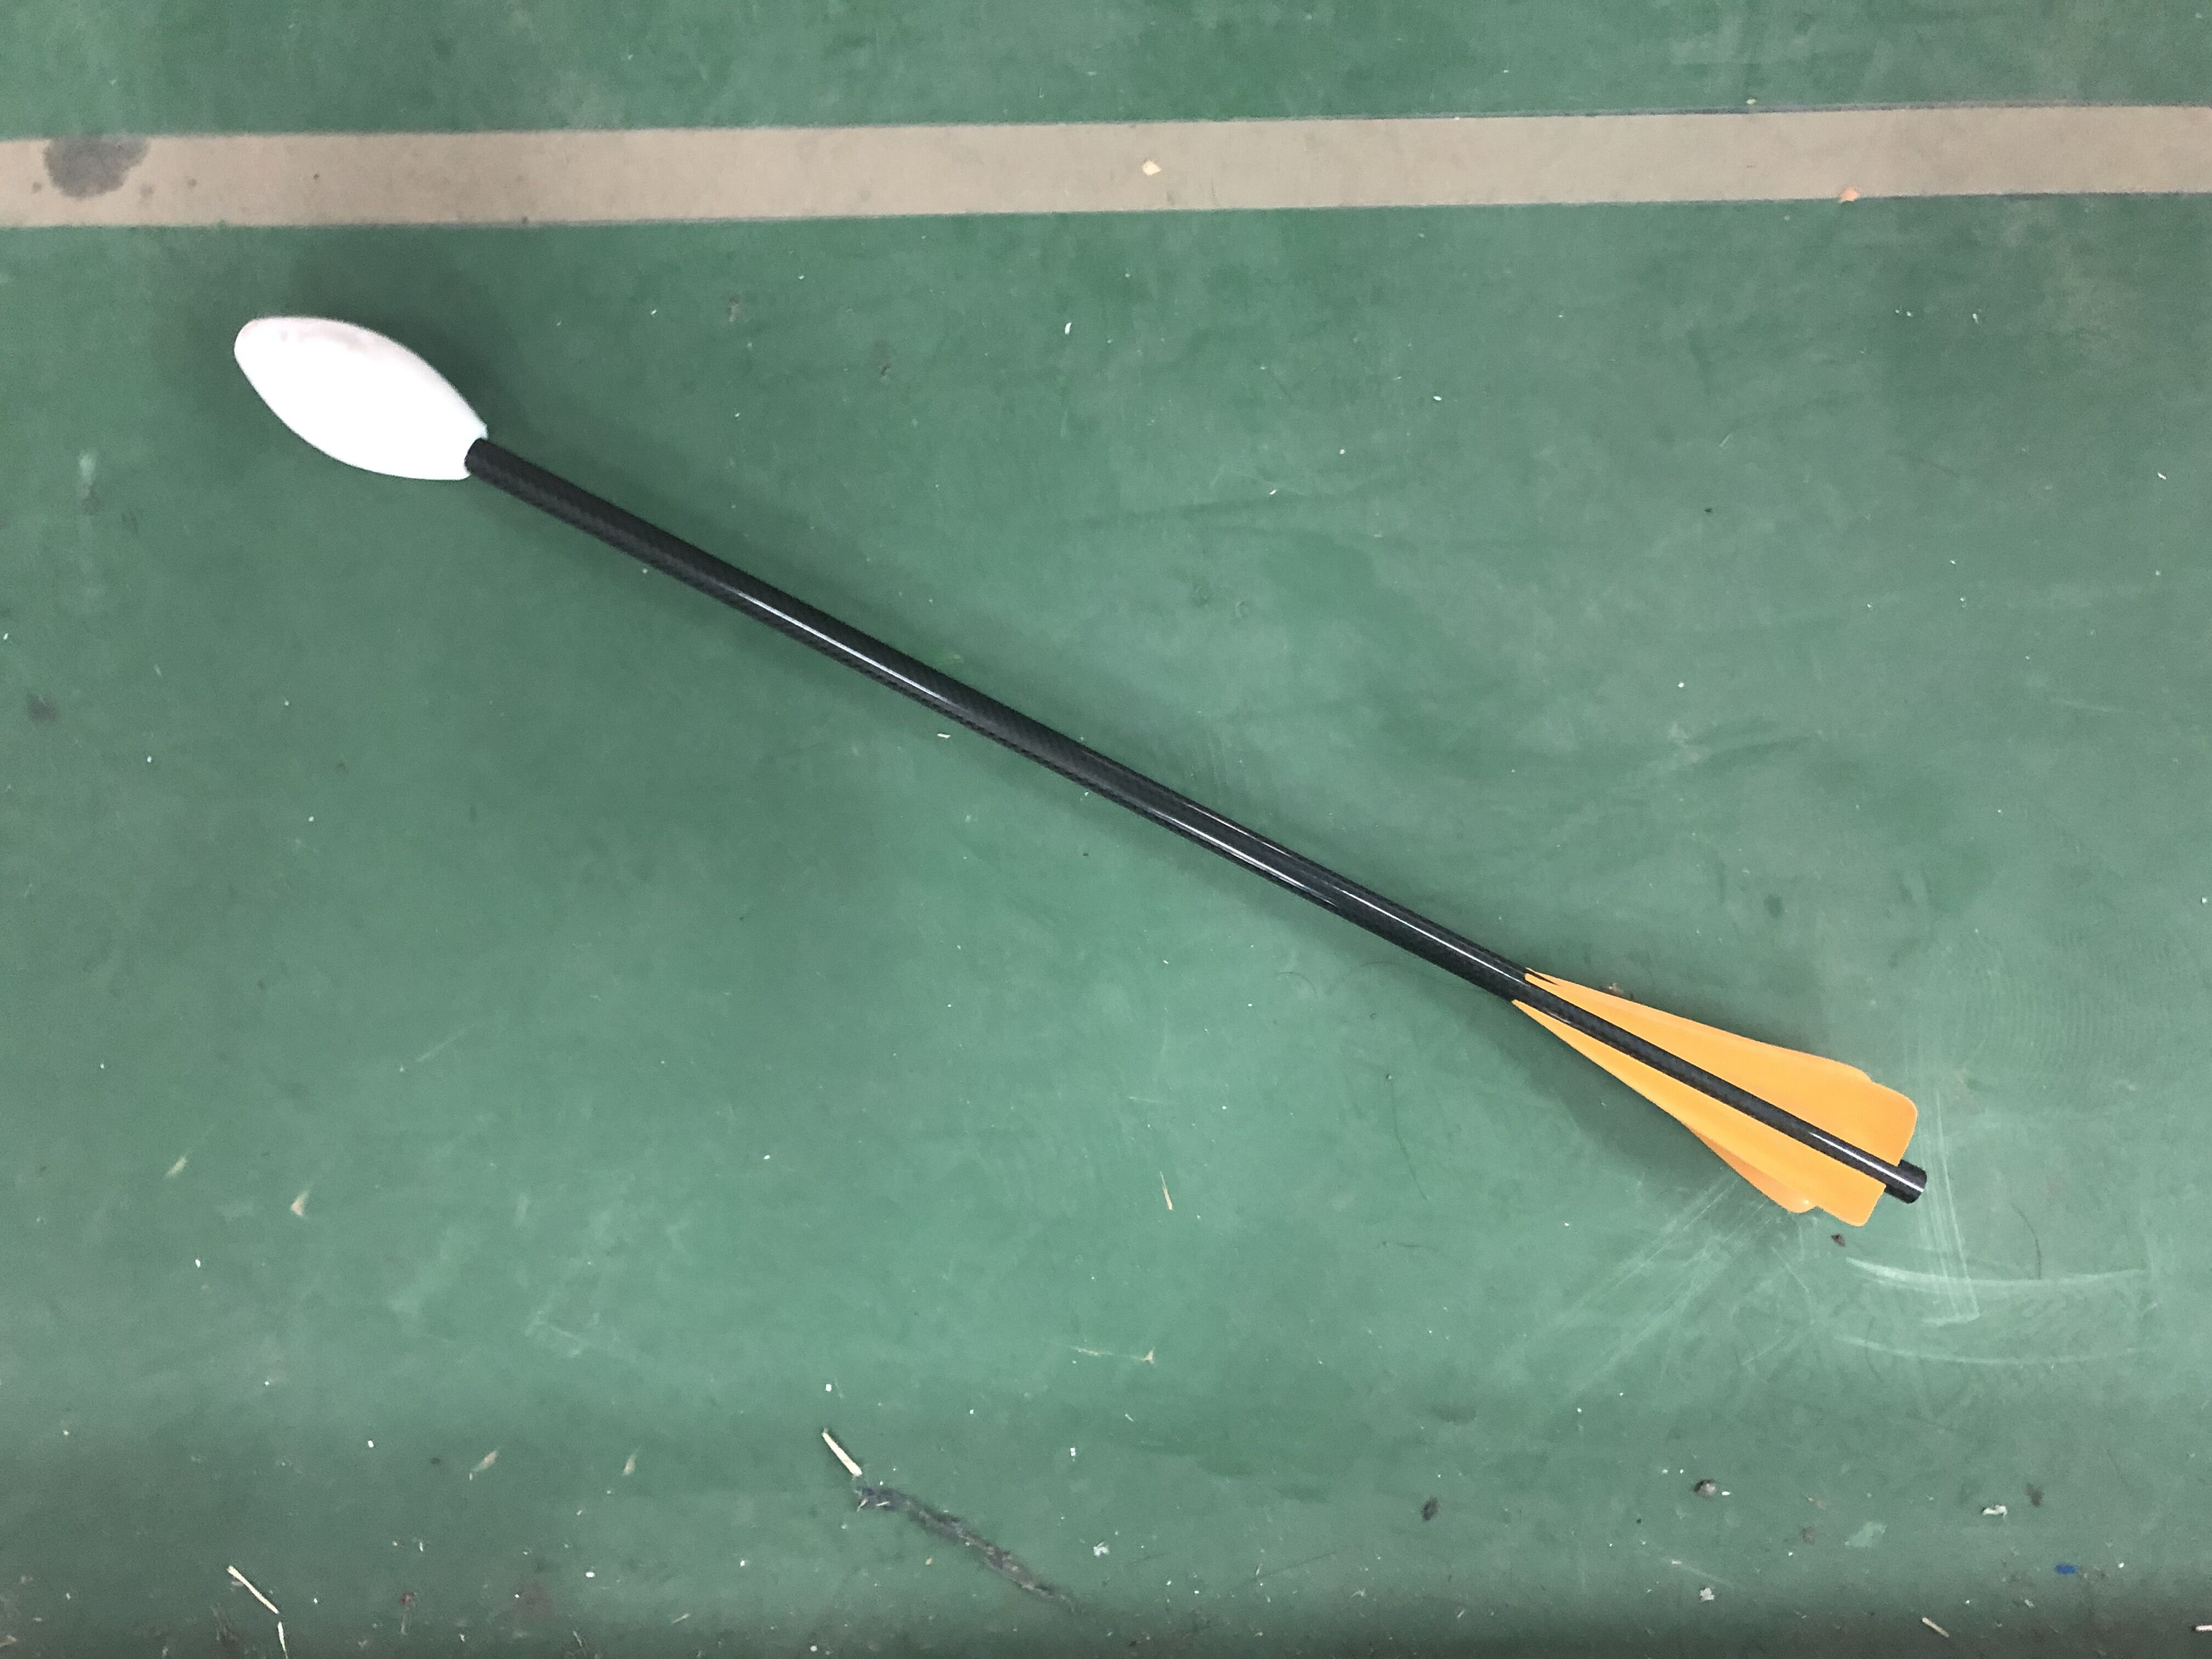arrow: (230, 308, 1933, 1232)
arrowFront: (230, 310, 495, 488)
